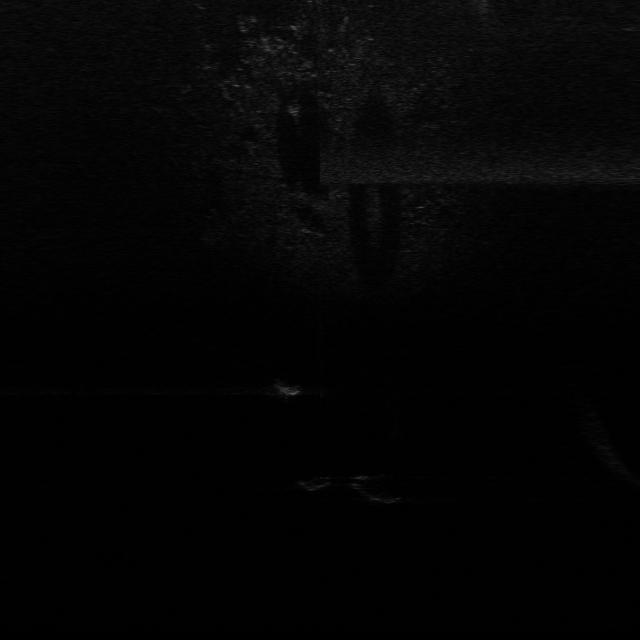cube: (294, 473, 334, 493)
square cage: (267, 376, 307, 398)
tyre: (348, 473, 406, 506)
